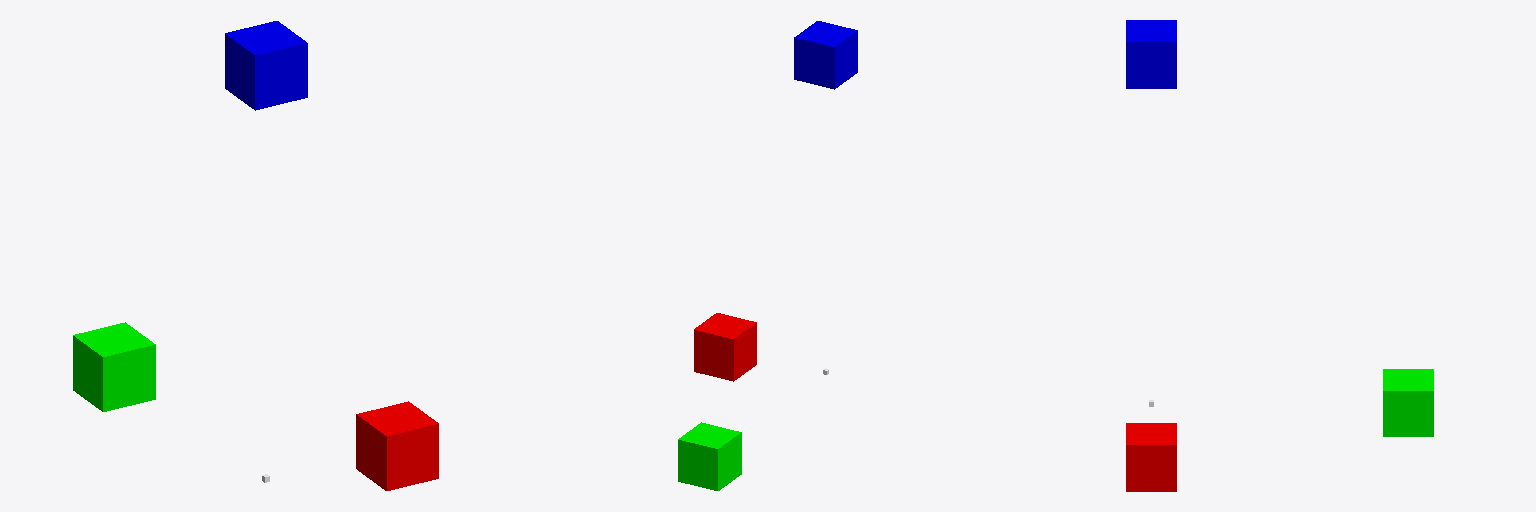
The robot description file, URDF, robot "axis_test":
<?xml version="1.0"?>
<robot name="axis_test">
  
  <!-- Base link at origin -->
  <link name="base_link">
    <visual>
      <geometry>
        <box size="0.01 0.01 0.01"/>
      </geometry>
      <material name="white">
        <color rgba="1.0 1.0 1.0 1.0"/>
      </material>
    </visual>
  </link>

  <!-- Red box on X axis at +1m -->
  <link name="x_axis_box">
    <visual>
      <geometry>
        <box size="0.1 0.1 0.1"/>
      </geometry>
      <material name="red">
        <color rgba="1.0 0.0 0.0 1.0"/>
      </material>
    </visual>
  </link>

  <joint name="x_axis_joint" type="fixed">
    <parent link="base_link"/>
    <child link="x_axis_box"/>
    <origin xyz="0.25 0.0 0.0" rpy="0 0 0"/>
  </joint>

  <!-- Green box on Y axis at +1.5m -->
  <link name="y_axis_box">
    <visual>
      <geometry>
        <box size="0.1 0.1 0.1"/>
      </geometry>
      <material name="green">
        <color rgba="0.0 1.0 0.0 1.0"/>
      </material>
    </visual>
  </link>

  <joint name="y_axis_joint" type="fixed">
    <parent link="base_link"/>
    <child link="y_axis_box"/>
    <origin xyz="0.0 .5 0.0" rpy="0 0 0"/>
  </joint>

  <!-- Blue box on Z axis at +0.75m -->
  <link name="z_axis_box">
    <visual>
      <geometry>
        <box size="0.1 0.1 0.1"/>
      </geometry>
      <material name="blue">
        <color rgba="0.0 0.0 1.0 1.0"/>
      </material>
    </visual>
  </link>

  <joint name="z_axis_joint" type="fixed">
    <parent link="base_link"/>
    <child link="z_axis_box"/>
    <origin xyz="0.0 0.0 0.75" rpy="0 0 0"/>
  </joint>

</robot>

--- What the picture shows (computed from the rendered views, not written in the file) ---
3 views of the same robot in one strip: view 1: azimuth 30°, elevation 25°; view 2: azimuth 150°, elevation 25°; view 3: azimuth 270°, elevation 25° (orthographic).
Robot: axis_test — 4 links, 3 joints (3 fixed); root link base_link; default pose: every joint at zero.
Visible links, largest first — view 1: y_axis_box, z_axis_box, x_axis_box; view 2: y_axis_box, z_axis_box, x_axis_box; view 3: x_axis_box, z_axis_box, y_axis_box.
Boxes of the visible links, x1,y1,x2,y2 form: y_axis_box: (73,322,155,411); z_axis_box: (225,21,307,110); x_axis_box: (356,401,438,490); y_axis_box: (678,422,741,490); z_axis_box: (794,21,857,89); x_axis_box: (694,313,756,381); x_axis_box: (1126,423,1176,491); z_axis_box: (1126,20,1176,88); y_axis_box: (1383,369,1433,436).
Bounding box of the posed robot: 0.35 × 0.6 × 0.85 m (x, y, z).
Geometry: primitives only (box / cylinder / sphere), no mesh files.